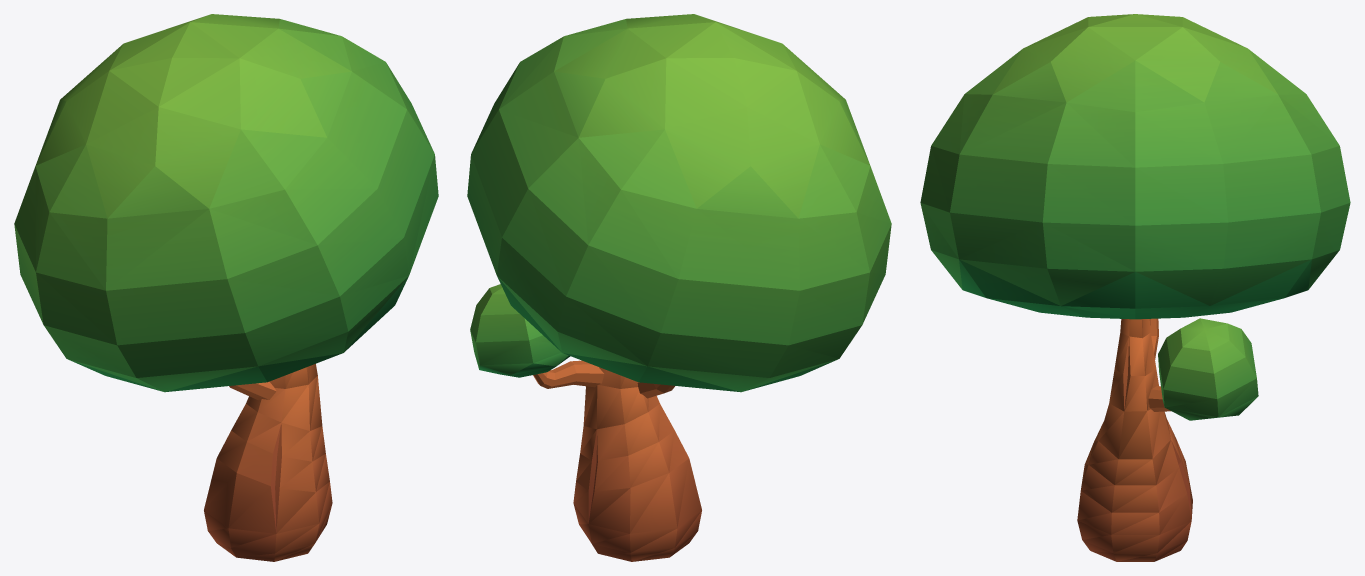
The model's file is kf_tree_1_a.fbx.
3 renders of one model, left to right at view 1: azimuth 30°, elevation 25°; view 2: azimuth 150°, elevation 25°; view 3: azimuth 270°, elevation 25°, orthographic. The views are drawn at different scales.
Parts seen in each view (by area): view 1: kf_tree_1_a_LOD0; view 2: kf_tree_1_a_LOD0; view 3: kf_tree_1_a_LOD0.
Boxes of the visible parts, box(x1,y1,x2,y2) form: kf_tree_1_a_LOD0: box(14, 14, 438, 561); kf_tree_1_a_LOD0: box(467, 14, 891, 561); kf_tree_1_a_LOD0: box(920, 14, 1350, 561).
Size of what is drawn, in the model's own units: 3.66 by 4.78 by 3.74.
Materials: 1 (1 with a texture image).
